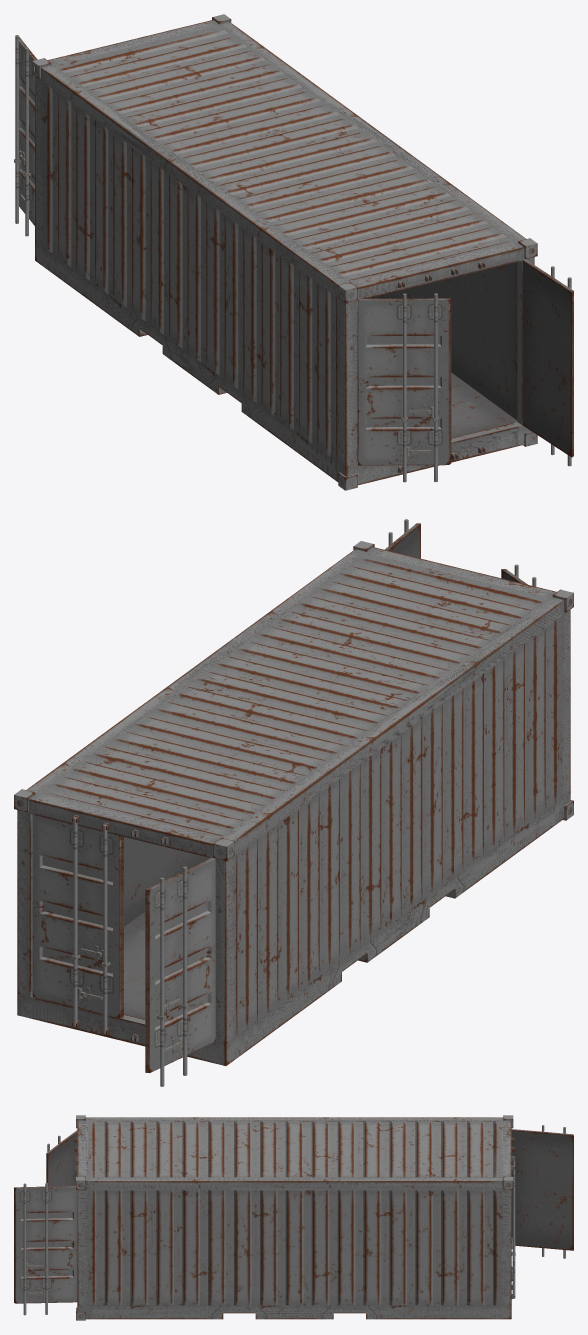
File: Container_big2.fbx
3 views of the same model, one above another, from view 1: azimuth 30°, elevation 25°; view 2: azimuth 150°, elevation 25°; view 3: azimuth 270°, elevation 25° (orthographic). The views are drawn at different scales.
Visible parts, largest first — view 1: polySurface398; view 2: polySurface398; view 3: polySurface398.
Part boxes in pixels (x1,y1,x2,y2): polySurface398: (14,14,573,490); polySurface398: (14,519,573,1086); polySurface398: (14,1115,573,1320).
Bounding box in the file's own units: 285 × 284 × 1031.
